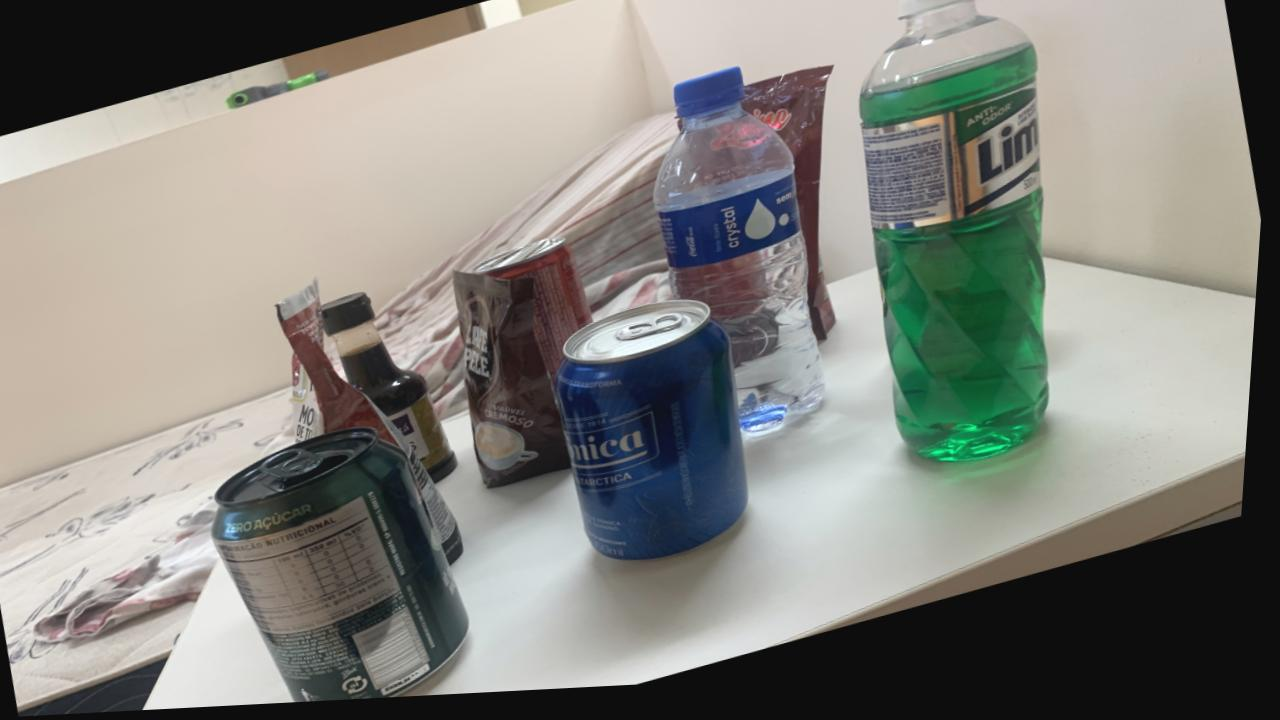Coffee-Pantry_Items: (456, 277, 576, 494)
Coke-Drinks: (479, 243, 597, 385)
Detergent-Cleanup_Items: (861, 0, 1055, 471)
English_Sauce-Pantry_Items: (325, 296, 464, 486)
Guarana_Can-Drinks: (220, 432, 478, 706)
Tomato_Sauce-Pantry_Items: (280, 284, 471, 567), (741, 74, 840, 350)
Tonic-Drinks: (561, 306, 755, 567)
Water_Bottle-Drinks: (656, 75, 831, 443)
